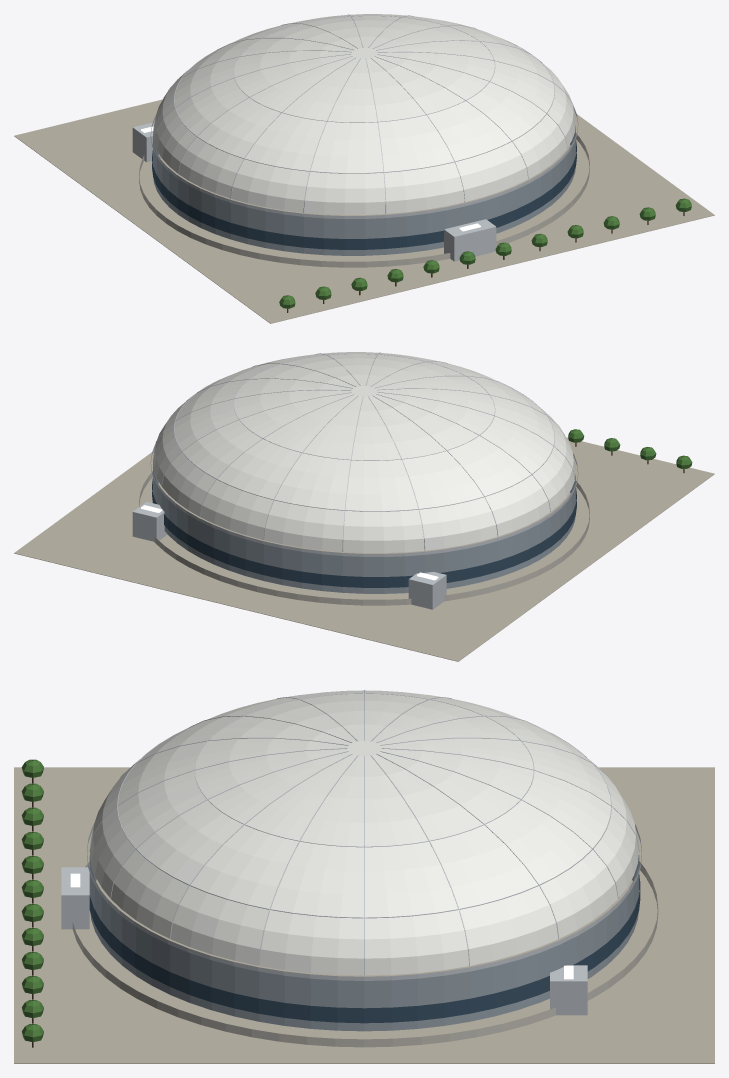
Rendered from dome.glb.
3 views of the same model, one above another, from view 1: azimuth 30°, elevation 25°; view 2: azimuth 150°, elevation 25°; view 3: azimuth 270°, elevation 25° (orthographic). The views are drawn at different scales.
Parts seen in each view (by area): view 1: Dome_static; view 2: Dome_static; view 3: Dome_static.
Part boxes in pixels (bbox=[...]): Dome_static: bbox=[14, 14, 714, 323]; Dome_static: bbox=[14, 352, 714, 661]; Dome_static: bbox=[14, 690, 714, 1063].
Bounding box in the file's own units: 148 × 39.05 × 148.
